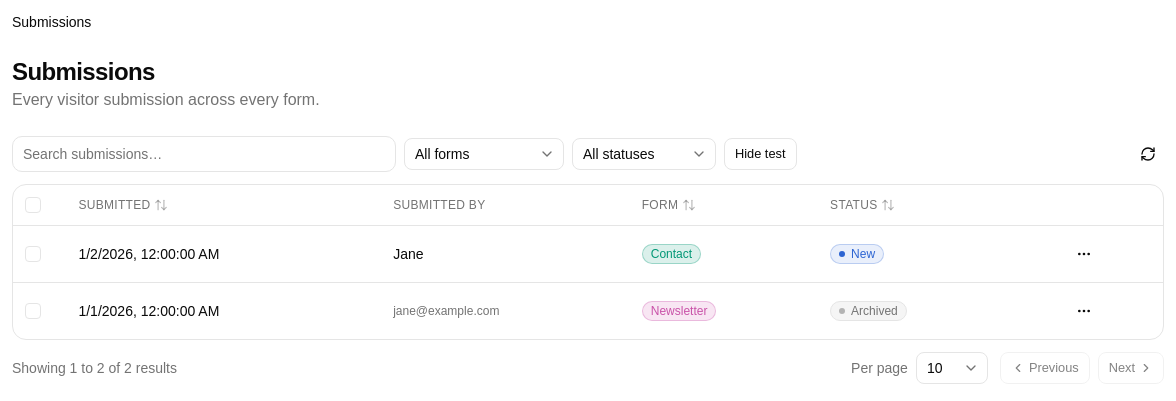
Test: AllSubmissionsPage › navigates to the submission detail page and resolves field labels for that submission's own form
The width and height of the screenshot is (1176, 401).
expect the icon "Contact" is shown: met, box [642, 244, 701, 264]
Click the text "1/2/2026, 12:00:00 AM".
click(149, 254)  # box [78, 246, 219, 262]
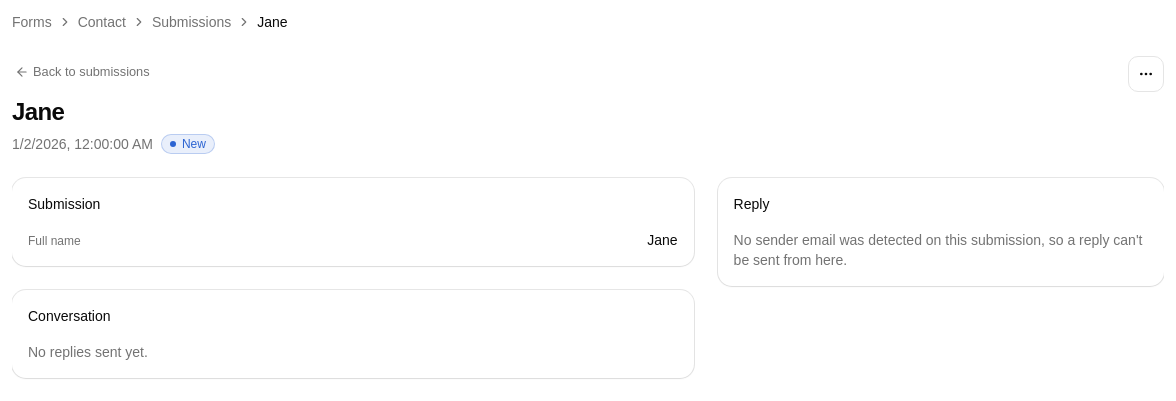
expect the text "Full name" is shown: met, box [28, 234, 81, 248]
expect the link "Jane" is shown: met, box [257, 12, 288, 32]
